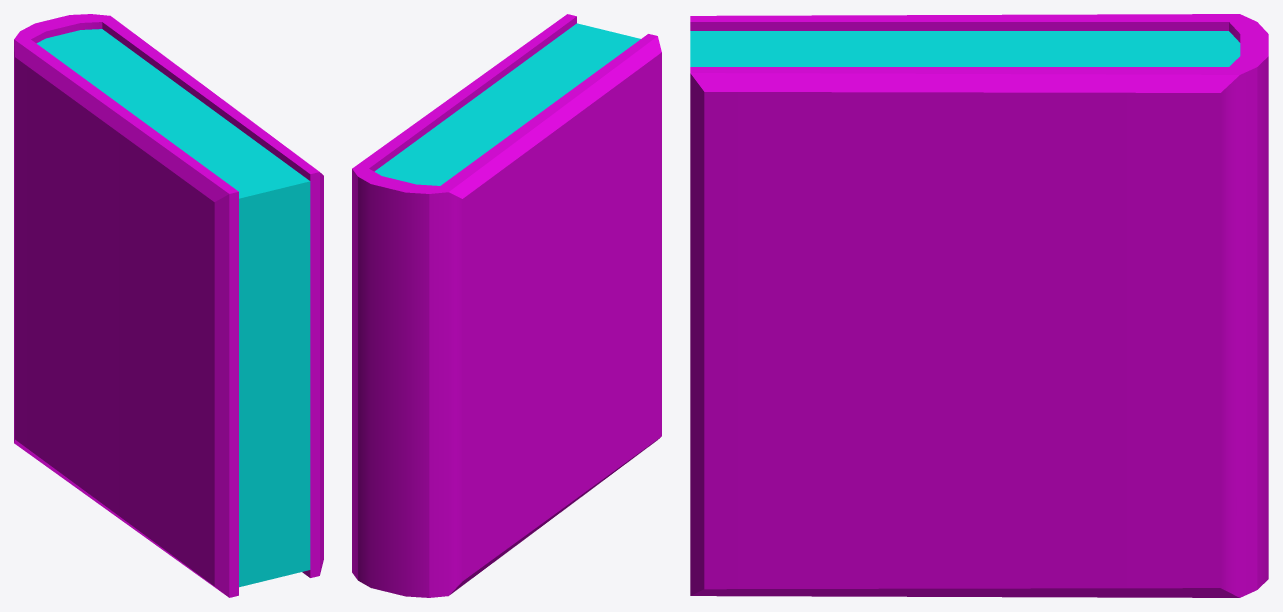
Rendered from Book_A.fbx.
The picture shows the model from 3 angles, left to right: view 1: azimuth 30°, elevation 25°; view 2: azimuth 150°, elevation 25°; view 3: azimuth 270°, elevation 25°; orthographic projection. The views are drawn at different scales.
Parts seen in each view (by area): view 1: Book_A; view 2: Book_A; view 3: Book_A.
Part boxes in pixels (x1,y1,x2,y2): Book_A: (14,14,323,597); Book_A: (352,14,661,597); Book_A: (690,14,1268,597).
Bounding box in the file's own units: 9.76 × 34.46 × 34.54.
